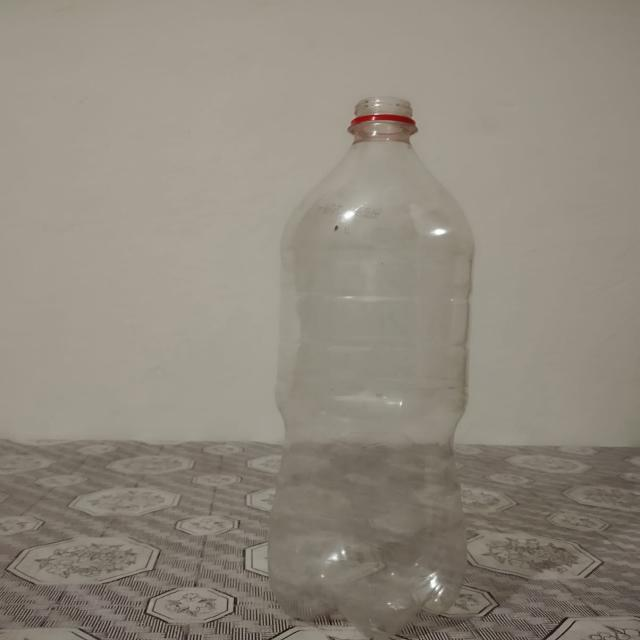bottle: (275, 95, 480, 640)
